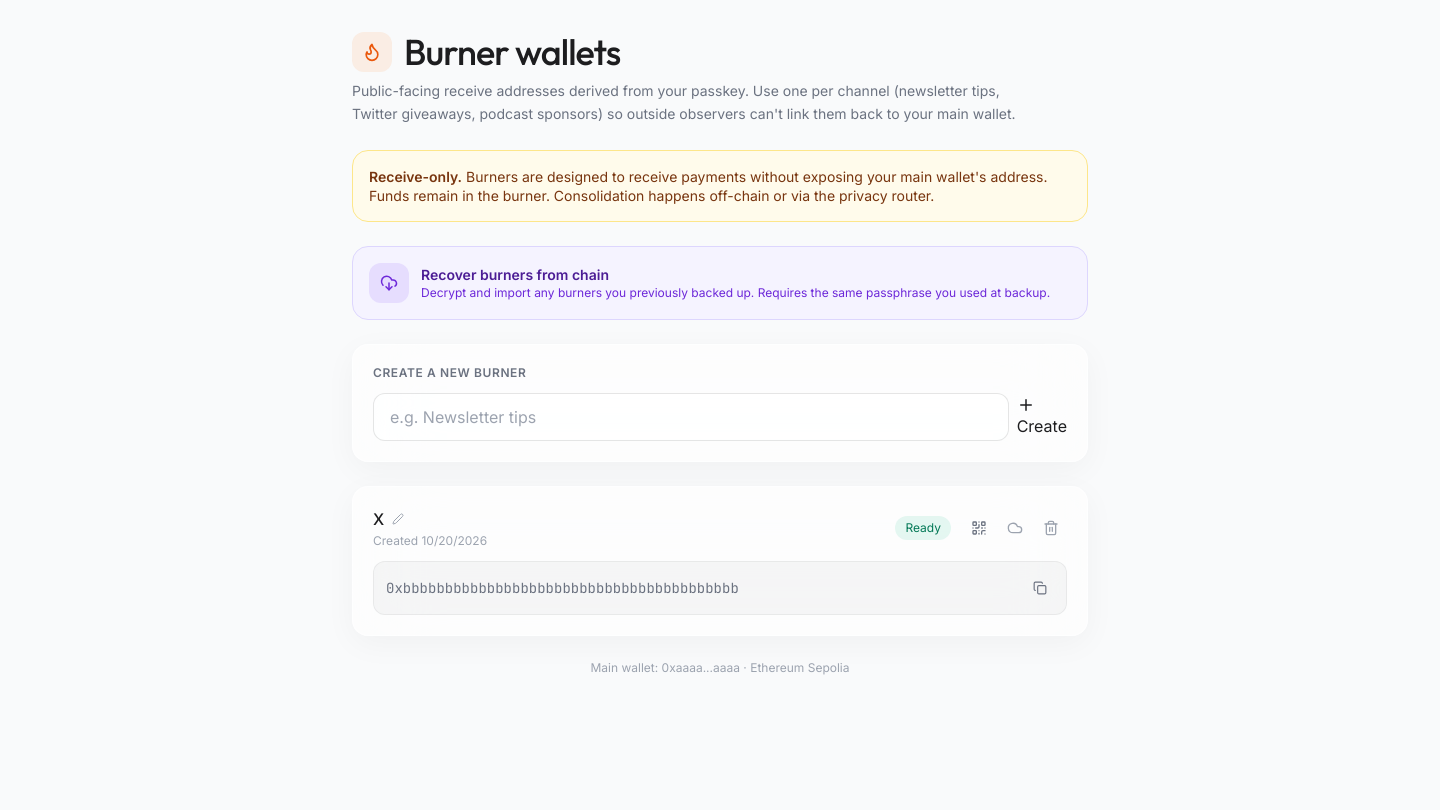
Test: Burners — backup modal (§15.x) › passphrase >= 12 chars -> Confirm enabled
The image size is (1440, 810).
Click the button with test id "burner-backup-b1" at (1015, 528), box [999,512,1031,544]
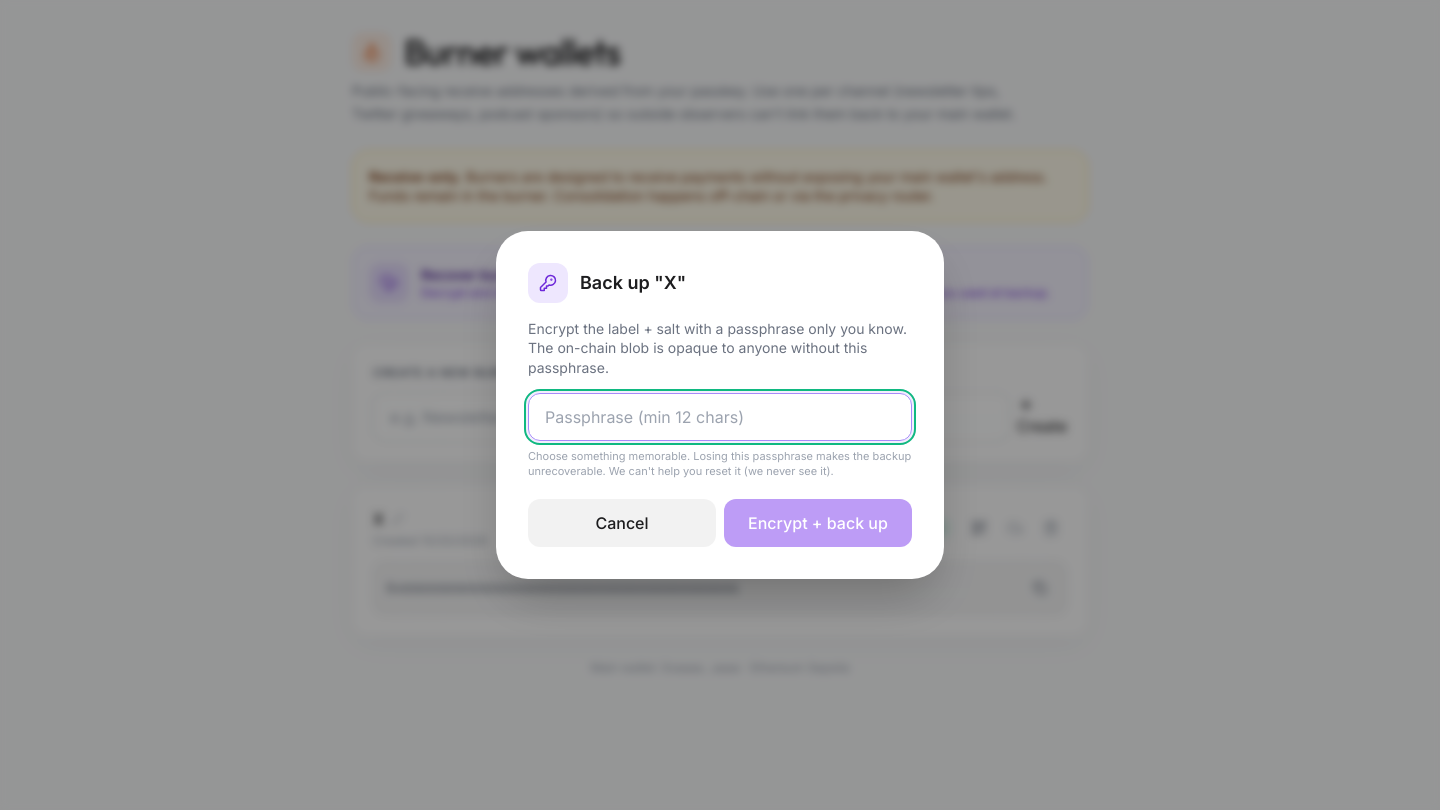
Type "longpassphrase12" into the password field with test id "burner-backup-passphrase" at (720, 417), box [528,393,912,441]
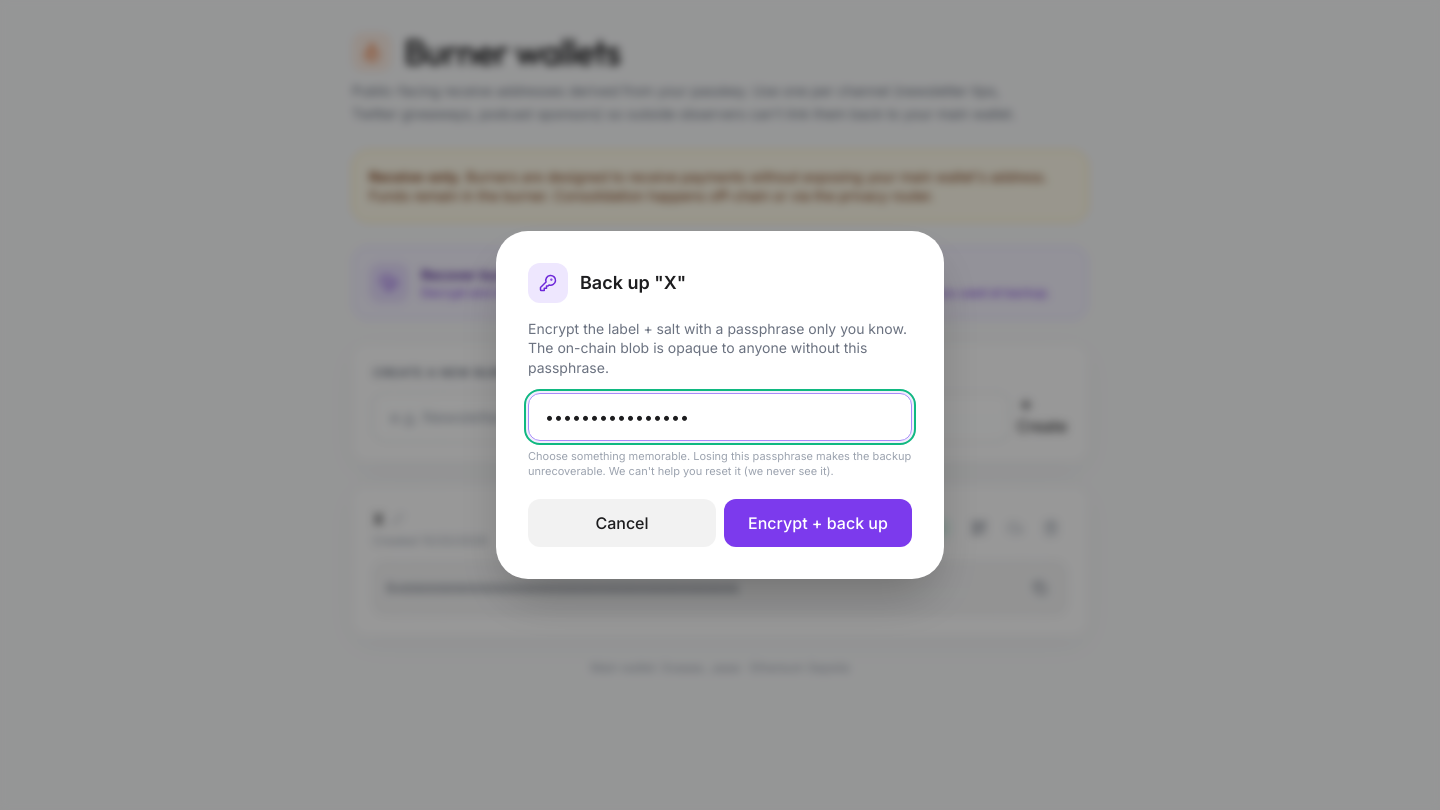
Result: the button with test id "burner-backup-confirm" is enabled at [724,499,912,547]
